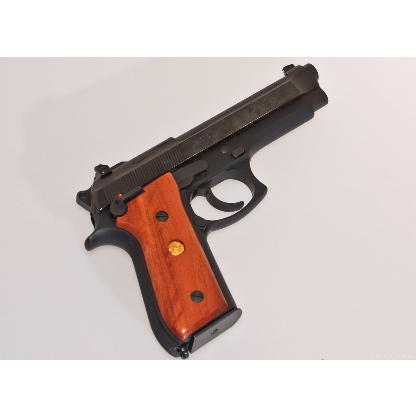gun: (75, 63, 327, 358)
